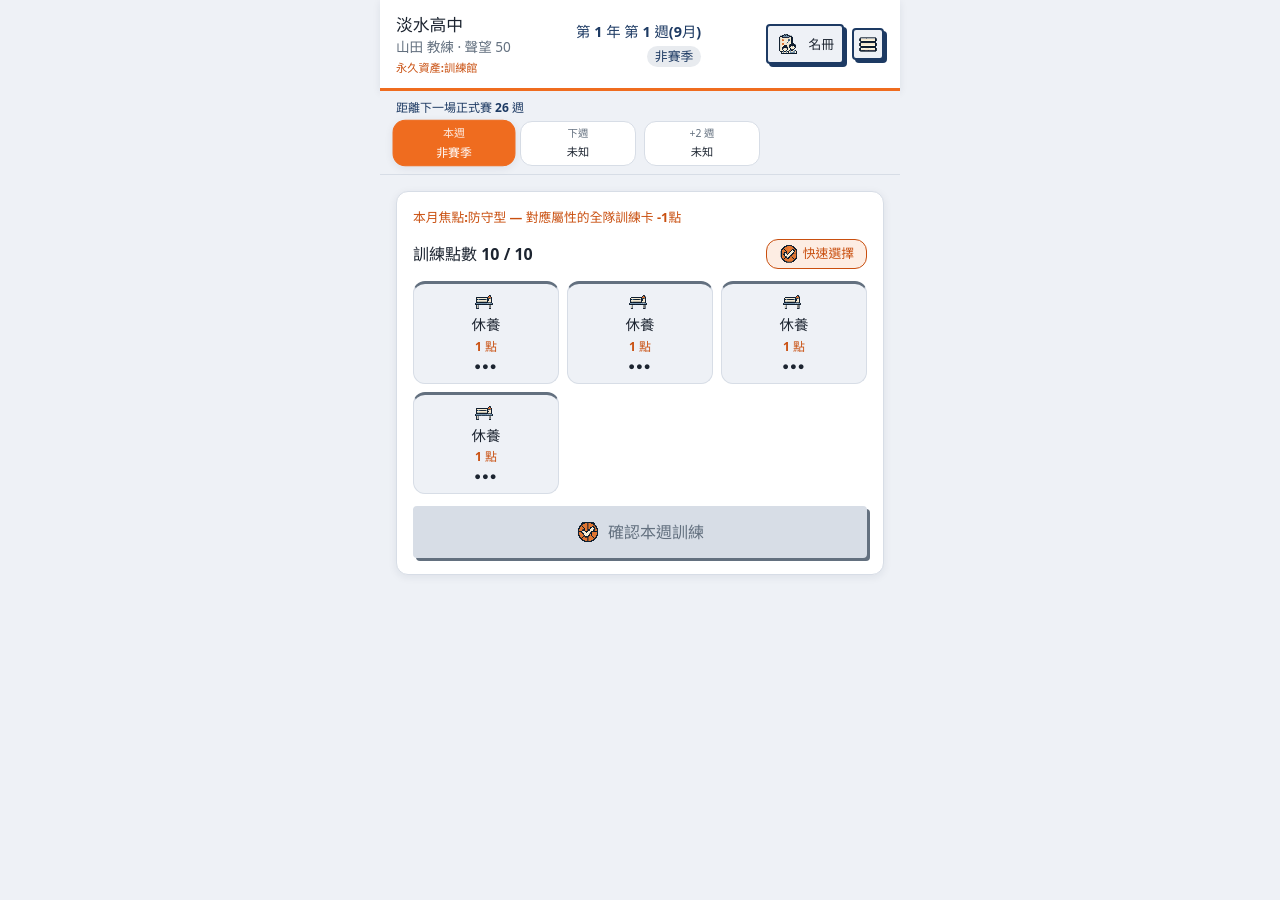
Test: App › allows selecting one extra card per week once the training-facility school asset is unlocked
This screenshot has width=1280, height=900.
Click the 1st button "休養 1 點 ●●●".
click(486, 333)  # box [413,282,559,384]
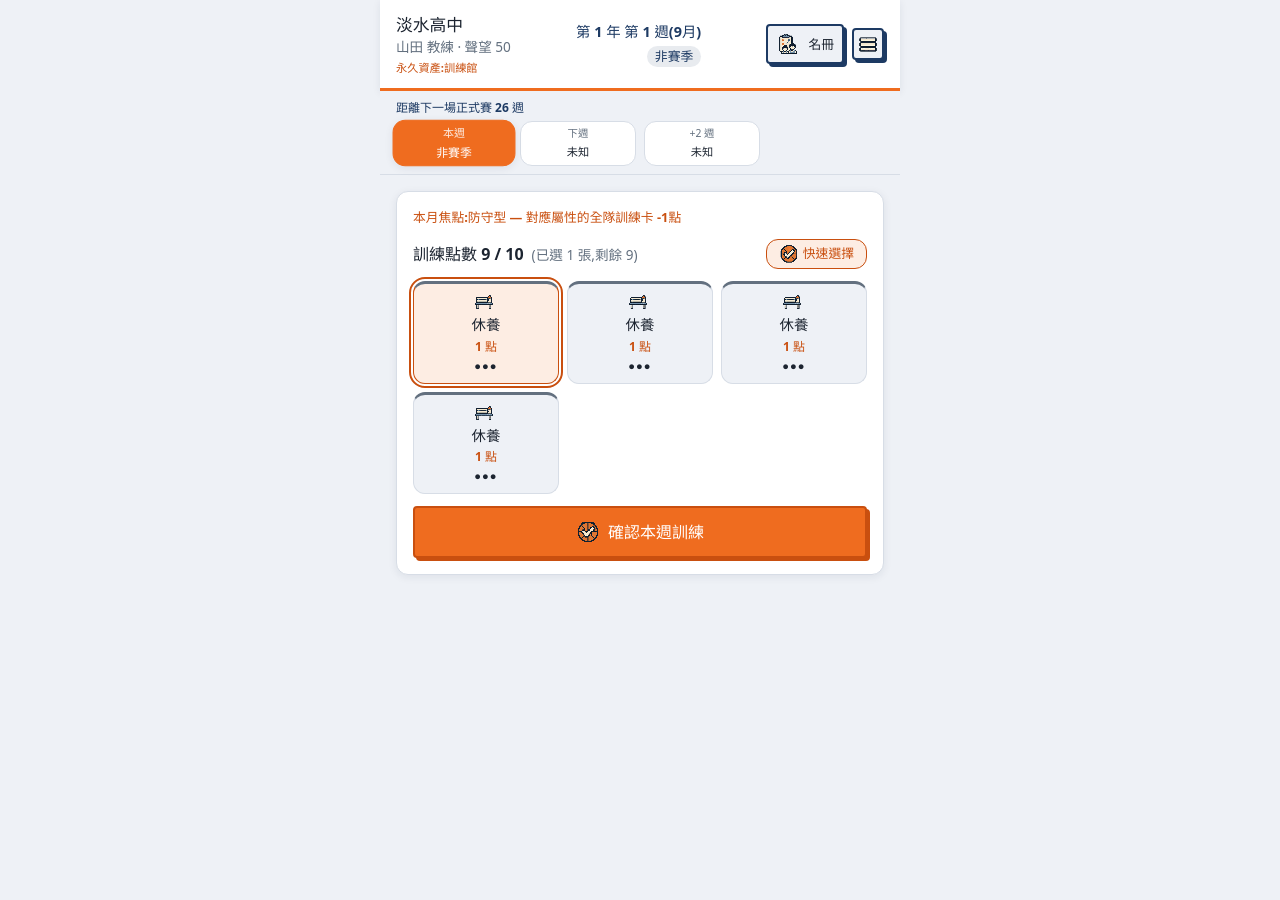
Click the 2nd button "休養 1 點 ●●●".
click(640, 333)  # box [567,282,713,384]
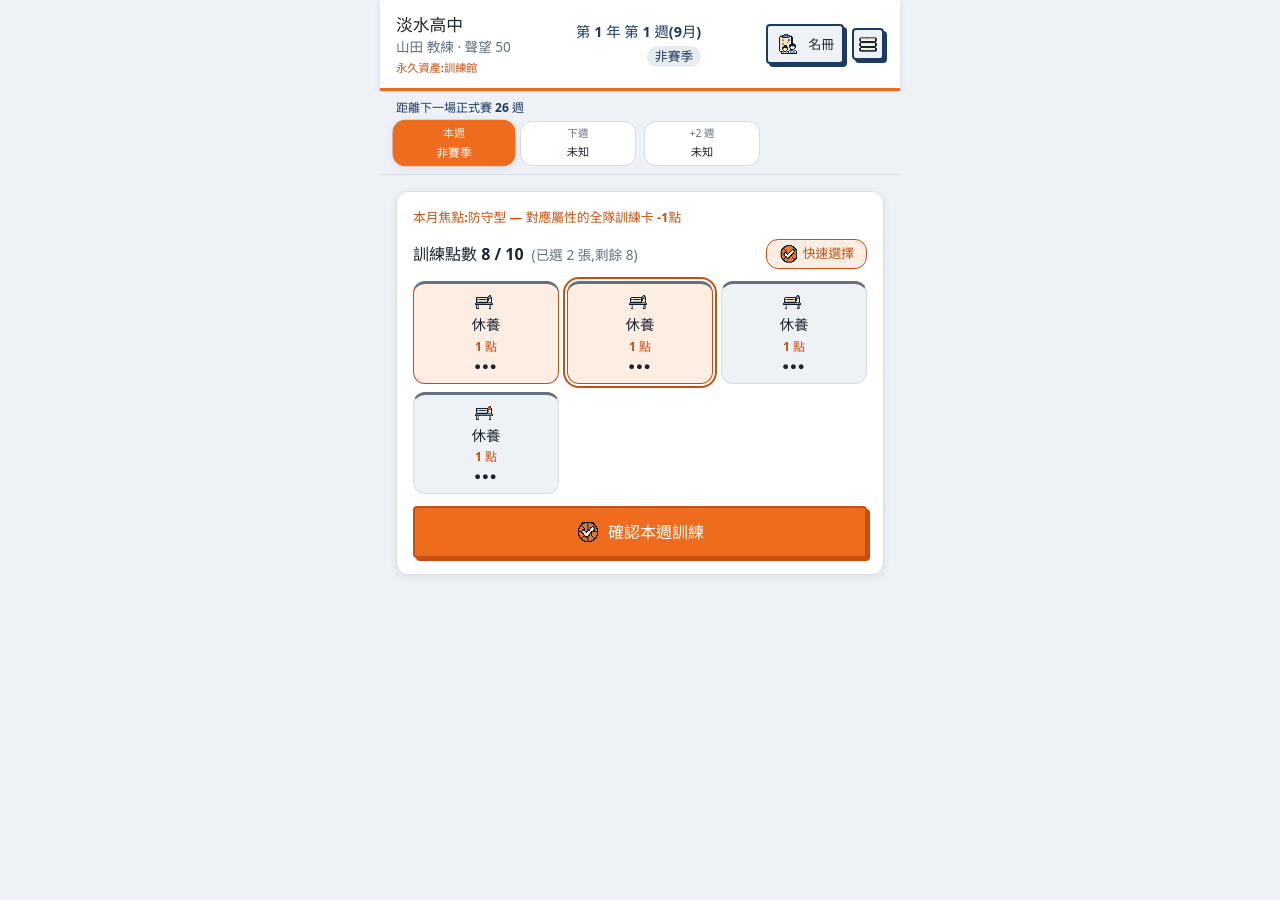
Click the 3rd button "休養 1 點 ●●●".
click(794, 333)  # box [721,282,867,384]
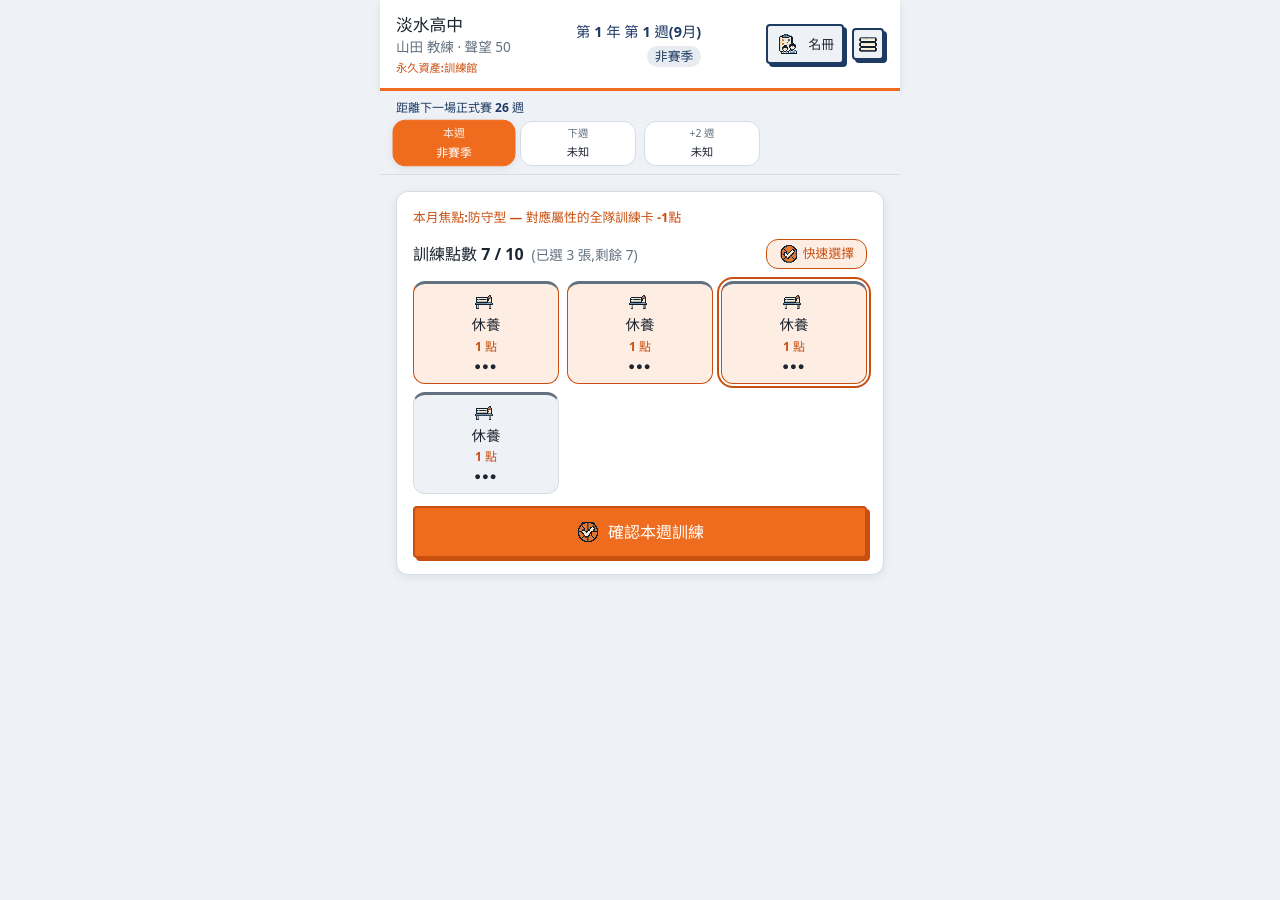
Click the 4th button "休養 1 點 ●●●".
click(486, 443)  # box [413,392,559,494]
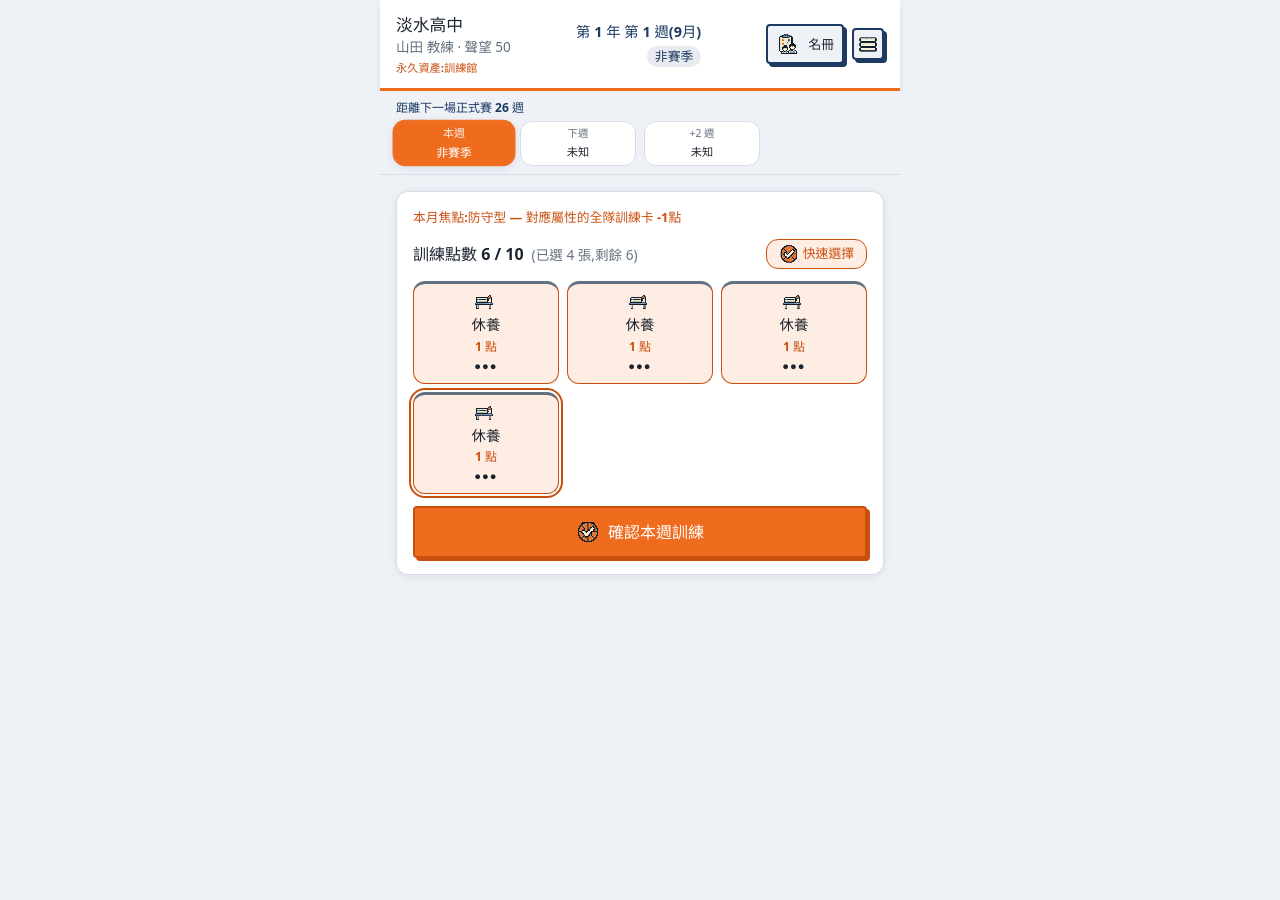
Click the button "確認本週訓練".
click(640, 532)  # box [413,506,867,558]
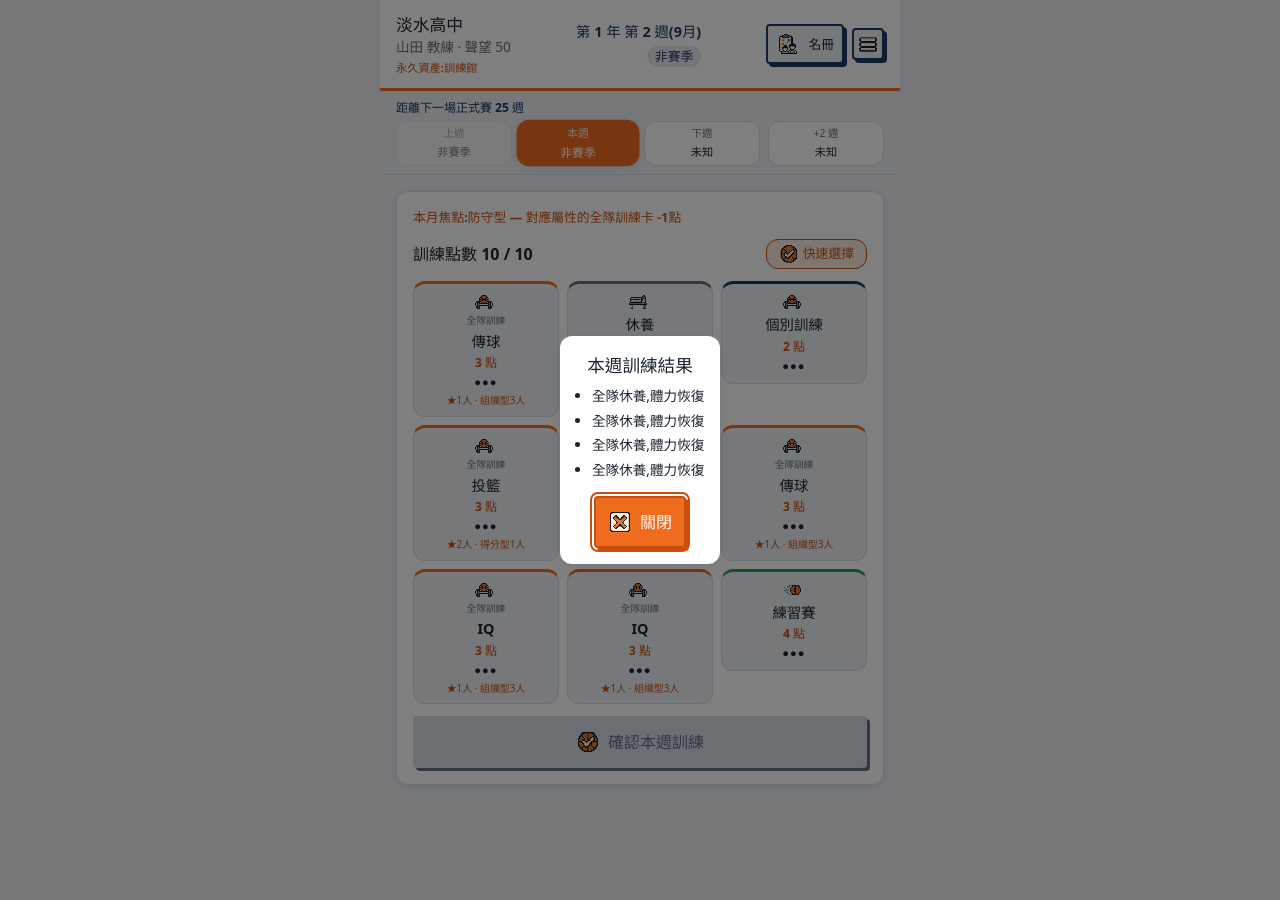
Expected: the heading "本週訓練結果" is shown, [587,353,693,377]
Expected: the number of list items "全隊休養,體力恢復" is 4, [592,386,704,407]; [592,411,704,431]; [592,435,704,456]; [592,460,704,480]
